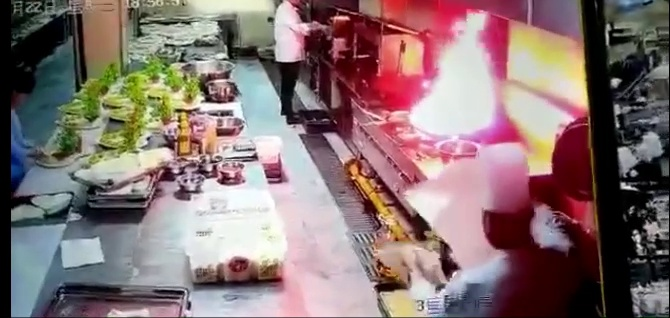fire: (411, 11, 499, 139)
